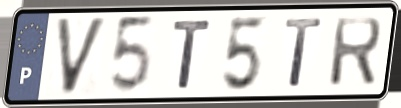5: (106, 12, 161, 98), (219, 14, 271, 93)
R: (326, 14, 385, 89)
T: (170, 17, 215, 91), (282, 16, 326, 90)
V: (53, 14, 110, 98)
